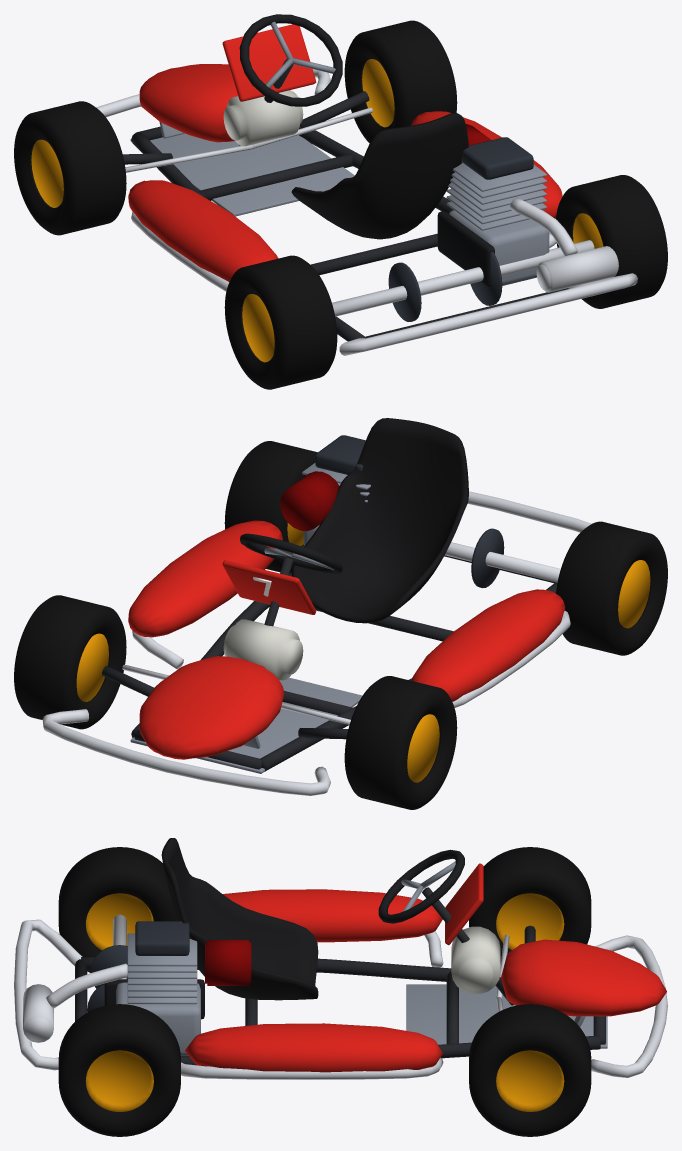
The model's file is GoKart.fbx.
3 renders of one model, top to bottom at view 1: azimuth 30°, elevation 25°; view 2: azimuth 150°, elevation 25°; view 3: azimuth 270°, elevation 25°, orthographic. The views are drawn at different scales.
Visible parts, largest first — view 1: GoKart_Trim, GoKart_Body, GoKart_Wheel1, GoKart_Wheel3, GoKart_Wheel2, GoKart_Wheel4; view 2: GoKart_Trim, GoKart_Body, GoKart_Wheel1, GoKart_Wheel3, GoKart_Wheel2, GoKart_Wheel4; view 3: GoKart_Trim, GoKart_Body, GoKart_Wheel2, GoKart_Wheel4, GoKart_Wheel1, GoKart_Wheel3.
Boxes of the visible parts, left/top/right/bottom form: GoKart_Trim: left=96, top=14, right=637, bottom=355; GoKart_Body: left=128, top=24, right=562, bottom=281; GoKart_Wheel1: left=14, top=101, right=126, bottom=235; GoKart_Wheel3: left=224, top=255, right=337, bottom=389; GoKart_Wheel2: left=344, top=20, right=457, bottom=143; GoKart_Wheel4: left=556, top=175, right=667, bottom=308; GoKart_Trim: left=42, top=418, right=591, bottom=795; GoKart_Body: left=128, top=520, right=565, bottom=759; GoKart_Wheel1: left=344, top=676, right=457, bottom=809; GoKart_Wheel3: left=556, top=521, right=667, bottom=655; GoKart_Wheel2: left=14, top=595, right=126, bottom=729; GoKart_Wheel4: left=224, top=441, right=317, bottom=572; GoKart_Trim: left=14, top=838, right=667, bottom=1079; GoKart_Body: left=185, top=863, right=666, bottom=1072; GoKart_Wheel2: left=469, top=1004, right=591, bottom=1136; GoKart_Wheel4: left=58, top=1004, right=180, bottom=1136; GoKart_Wheel1: left=469, top=847, right=591, bottom=963; GoKart_Wheel3: left=58, top=847, right=176, bottom=972.
Bounding box in the file's own units: 5.68 × 2.75 × 8.45.
